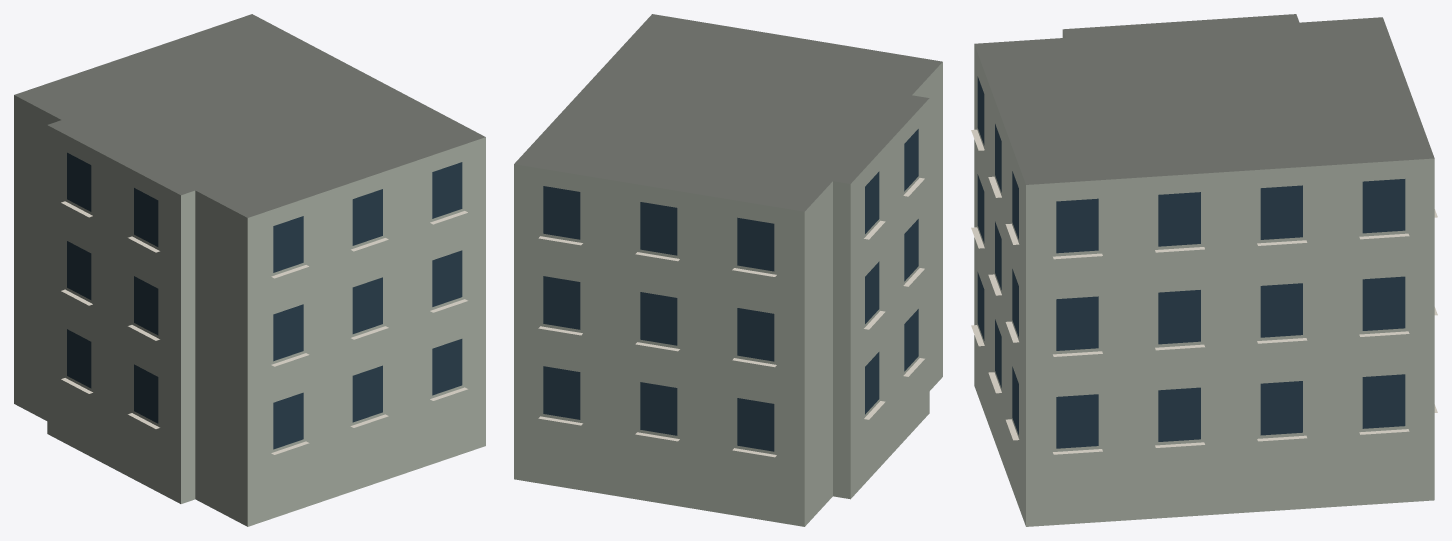
3 renders of one model, left to right at view 1: azimuth 30°, elevation 25°; view 2: azimuth 150°, elevation 25°; view 3: azimuth 270°, elevation 25°, orthographic. The views are drawn at different scales.
Visible parts, largest first — view 1: Footprint 0, Inferred window bays, Window sills; view 2: Footprint 0, Inferred window bays, Window sills; view 3: Footprint 0, Inferred window bays, Window sills.
Part boxes in pixels (x1,y1,x2,y2): Footprint 0: (14,14,485,526); Inferred window bays: (67,152,462,449); Window sills: (61,201,467,454); Footprint 0: (514,14,942,526); Inferred window bays: (543,129,918,451); Window sills: (538,178,924,457); Footprint 0: (974,14,1434,526); Inferred window bays: (977,76,1405,448); Window sills: (971,129,1437,454).
Bounding box in the file's own units: 11.87 × 10.88 × 13.47.
